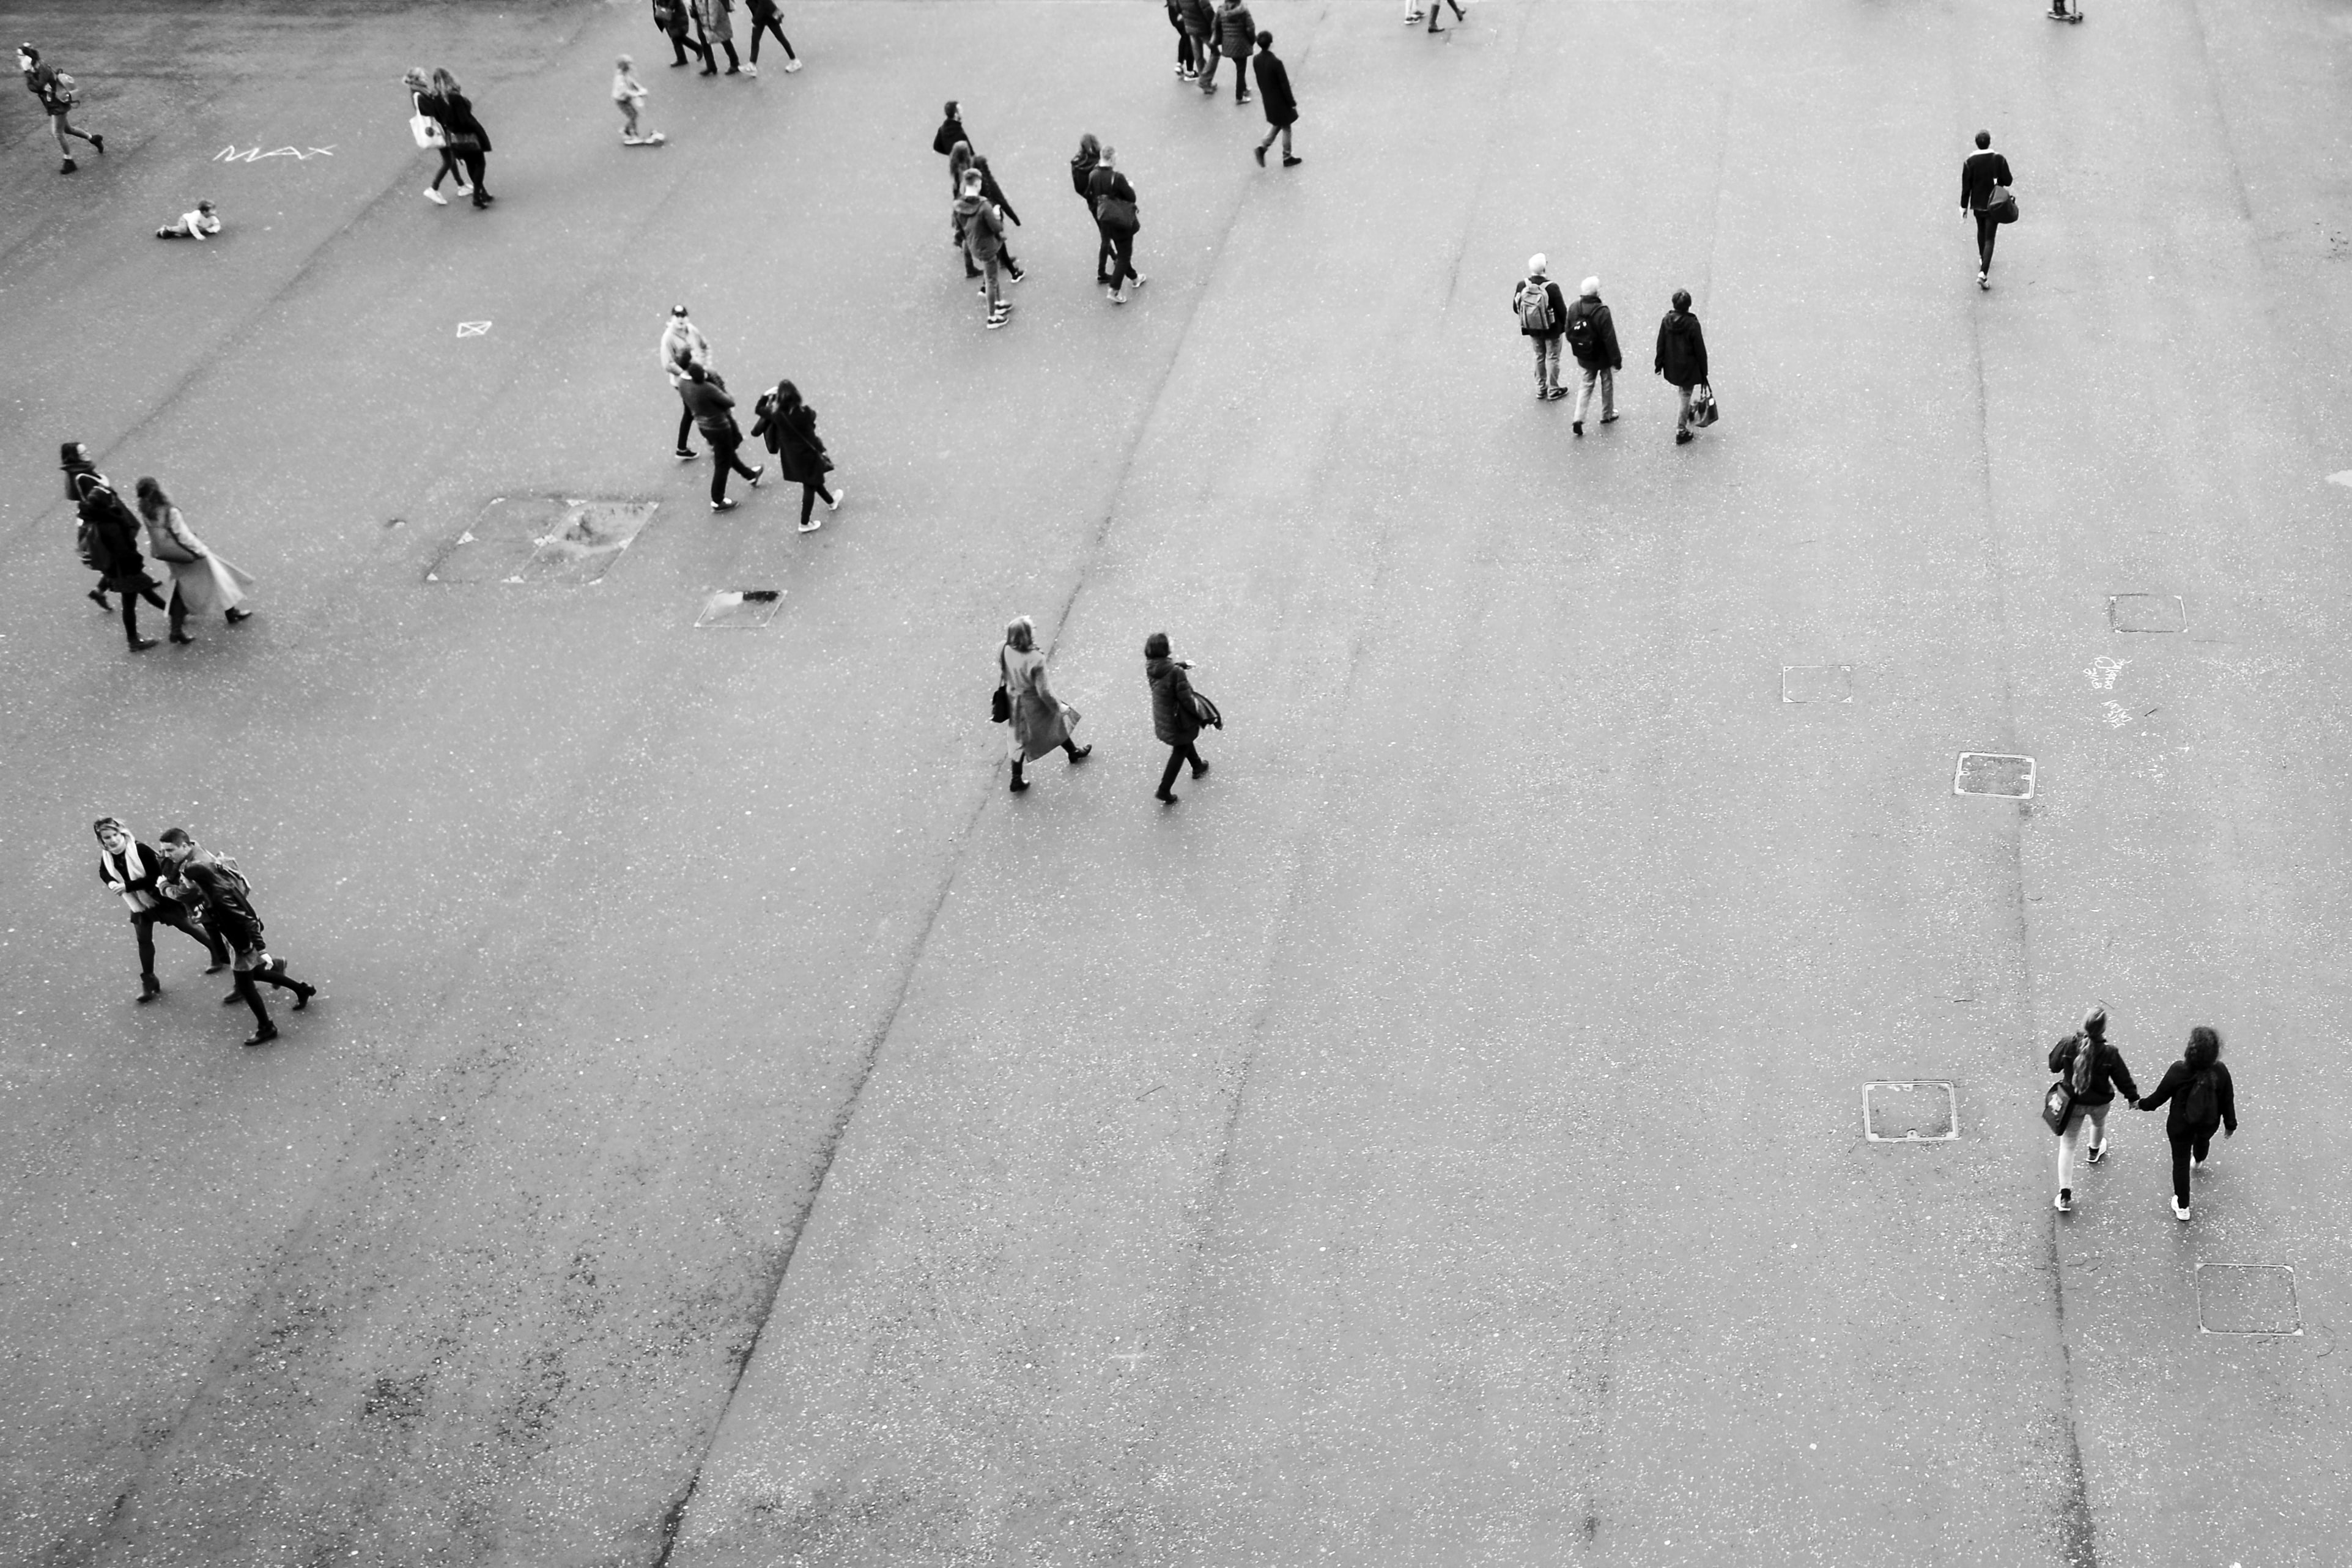person: (157, 829, 322, 1040), (126, 475, 256, 637), (2040, 1005, 2134, 1211), (993, 605, 1092, 797), (88, 813, 180, 1007), (2150, 1025, 2234, 1226), (1142, 629, 1227, 804), (56, 445, 150, 599), (763, 383, 851, 539), (13, 43, 108, 171), (1951, 126, 2019, 295), (947, 166, 1020, 322), (429, 68, 503, 209), (683, 358, 750, 511), (1658, 286, 1716, 444), (1570, 275, 1627, 434), (1090, 148, 1147, 303), (1512, 252, 1568, 406), (664, 300, 716, 457), (1257, 34, 1306, 175), (1219, 1, 1251, 105)
